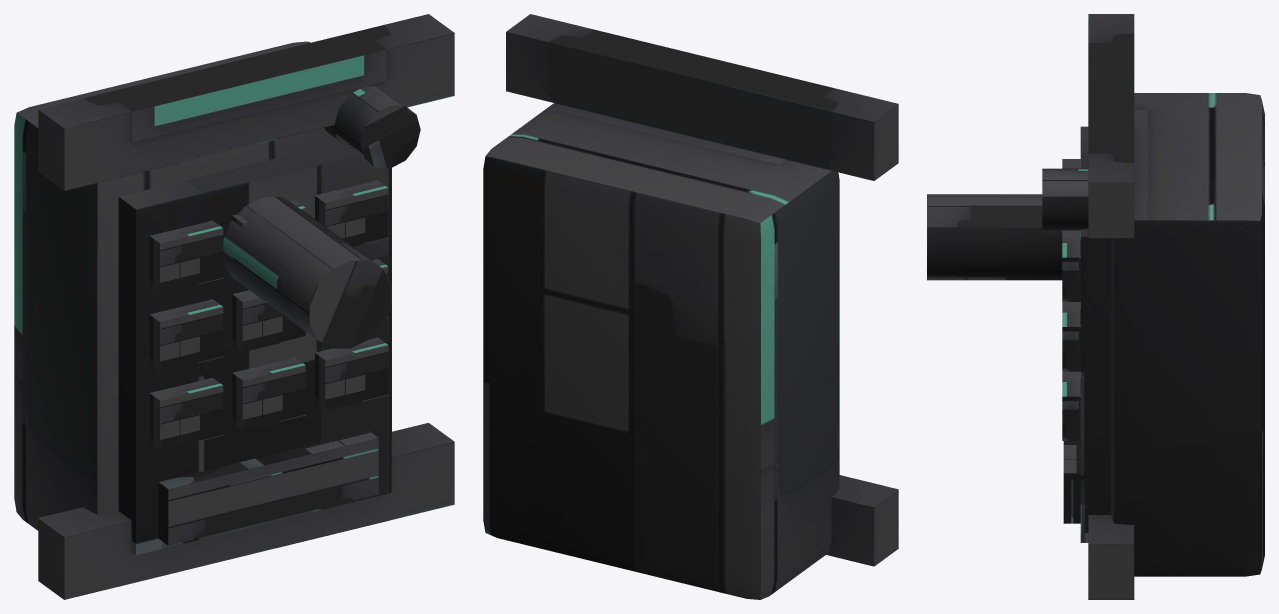
The model's file is DD_lock_code.glb.
3 views of the same model, side by side, from view 1: azimuth 30°, elevation 25°; view 2: azimuth 150°, elevation 25°; view 3: azimuth 270°, elevation 25° (orthographic). The views are drawn at different scales.
Visible parts, largest first — view 1: DD_lock_code; view 2: DD_lock_code; view 3: DD_lock_code.
Part boxes in pixels (x1,y1,x2,y2): DD_lock_code: (14,14,454,599); DD_lock_code: (483,14,898,599); DD_lock_code: (927,14,1264,599).
Bounding box in the file's own units: 0.26 × 0.3 × 0.22.
Materials: 1 (1 with a texture image).
